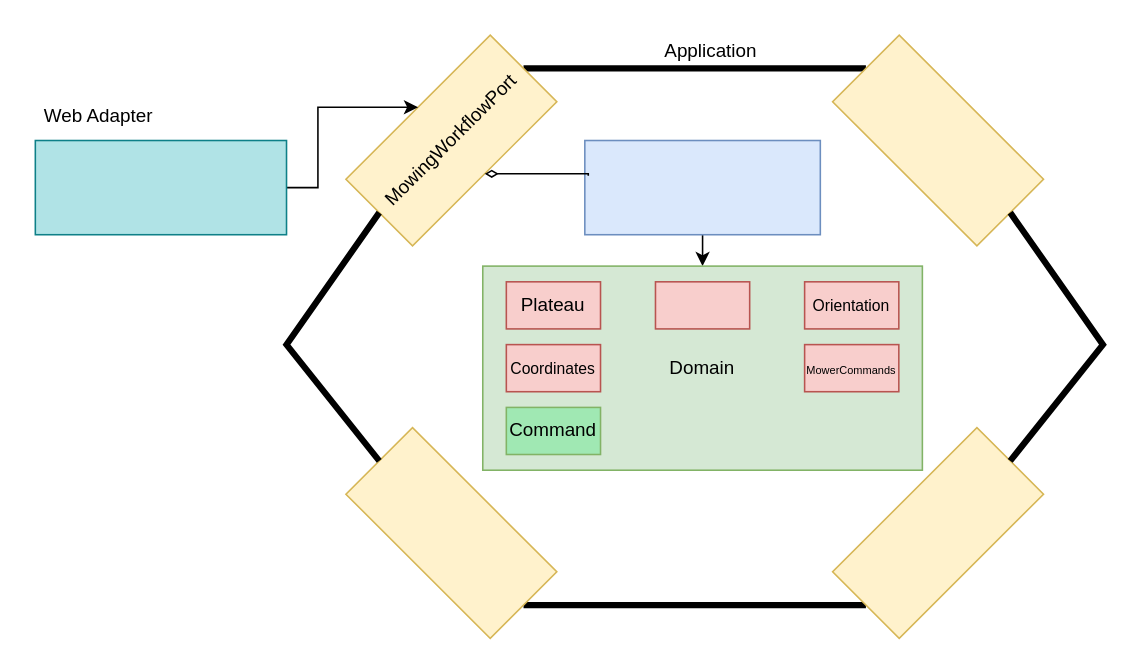
Some shapes in this 1134 by 666 pixel diagram are drawn without their labels. Each missing label, with the centre of its shape:
"Mower" belongs at (x=702, y=304).
"MowingWorkflowController" belongs at (x=160, y=187).
"MowingWorkflowUsecase" belongs at (x=701, y=187).
